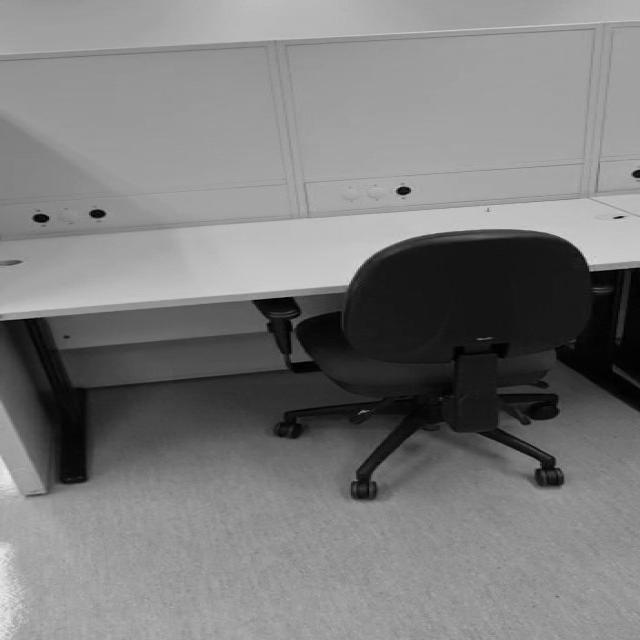cadeira-azul: (254, 229, 610, 499)
